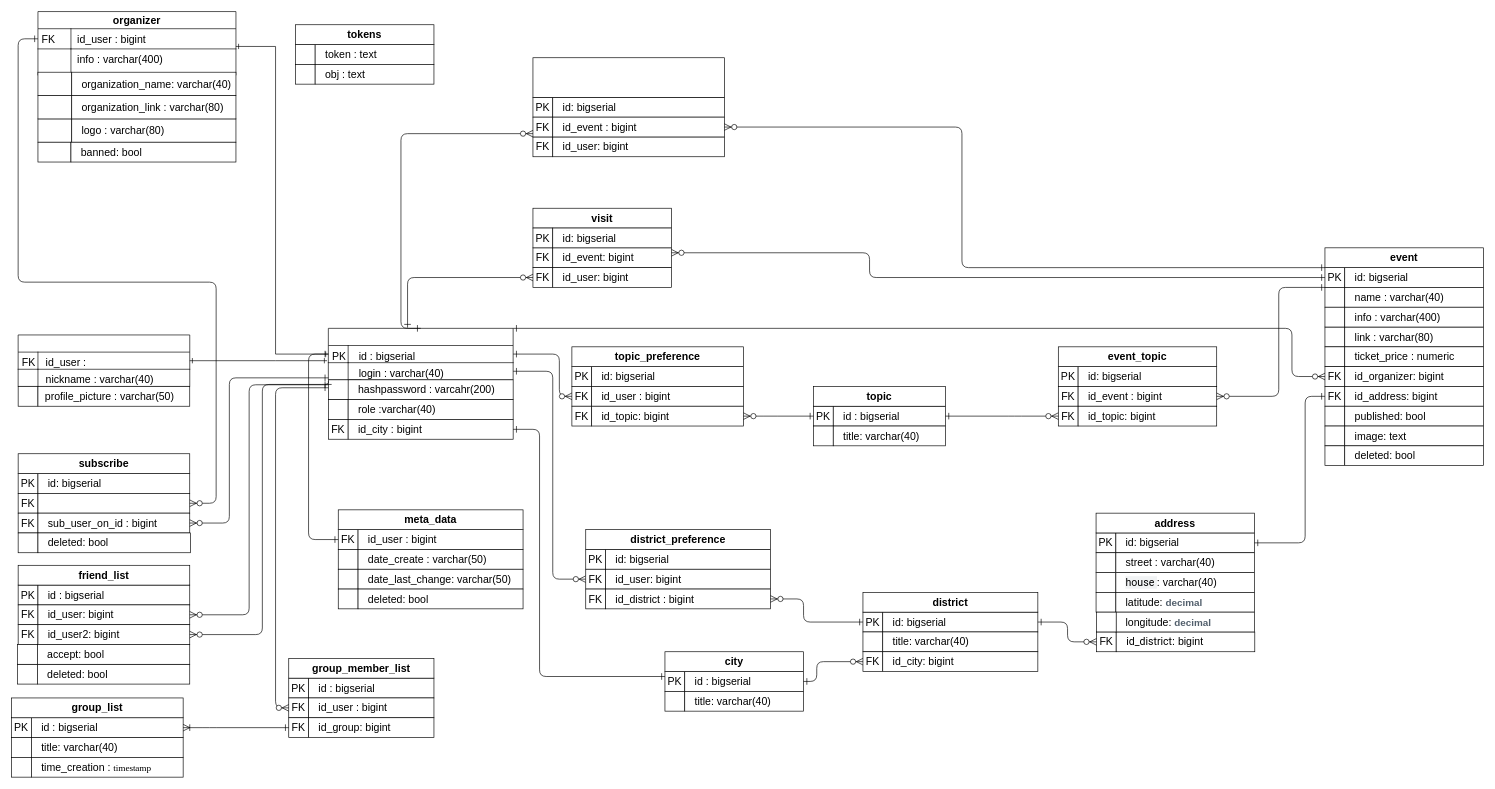
Image size: 1495x789. Some labels were removed from this diagram. The box of each missing label's shape, as (x1, y1, x2, y2) in pixels:
id_subscriber : bigint: (37, 493, 190, 513)
recommendation: (532, 57, 724, 97)
userlist: (328, 328, 513, 380)
visitor: (17, 334, 190, 386)
